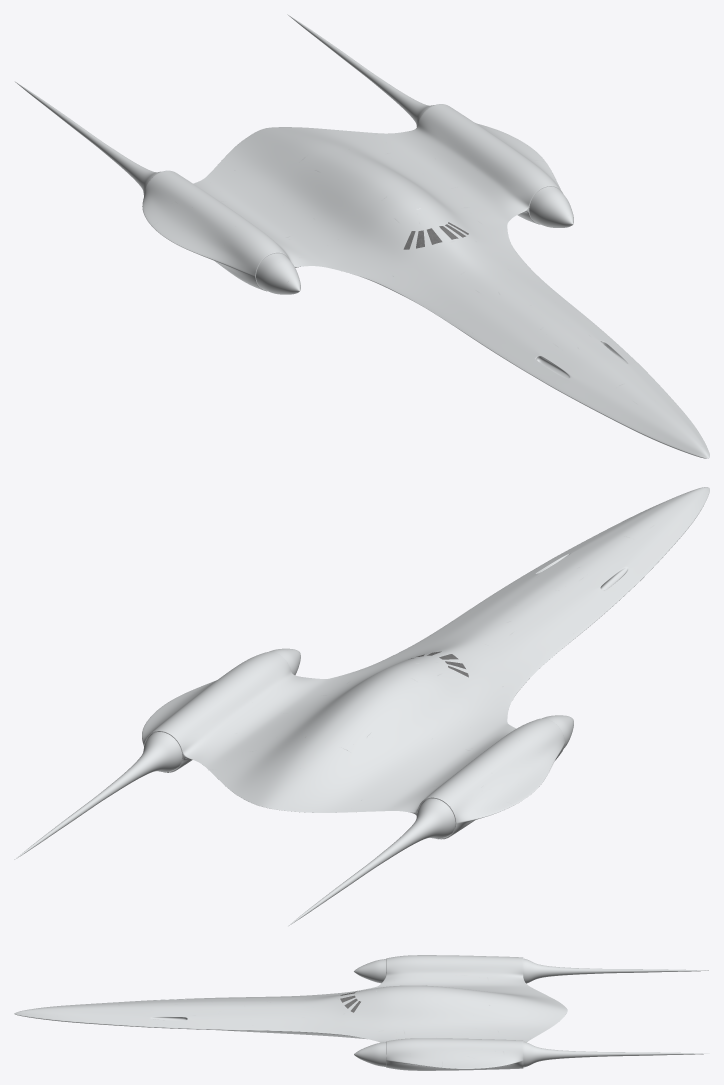
3 views of the same model, one above another, from view 1: azimuth 30°, elevation 25°; view 2: azimuth 150°, elevation 25°; view 3: azimuth 270°, elevation 25° (orthographic). The views are drawn at different scales.
Visible parts, largest first — view 1: Object_4, Object_5, Object_6; view 2: Object_4, Object_5, Object_6; view 3: Object_4, Object_5, Object_6.
Part boxes in pixels (x1,y1,x2,y2): Object_4: (142,104,707,458); Object_5: (14,14,709,458); Object_6: (144,104,709,457); Object_4: (142,487,709,838); Object_5: (14,488,709,926); Object_6: (145,487,708,839); Object_4: (16,955,567,1070); Object_5: (14,958,709,1067); Object_6: (15,957,565,1067).
Bounding box in the file's own units: 4.06 × 0.7366 × 10.71.
Materials: 3 (2 with a texture image).
